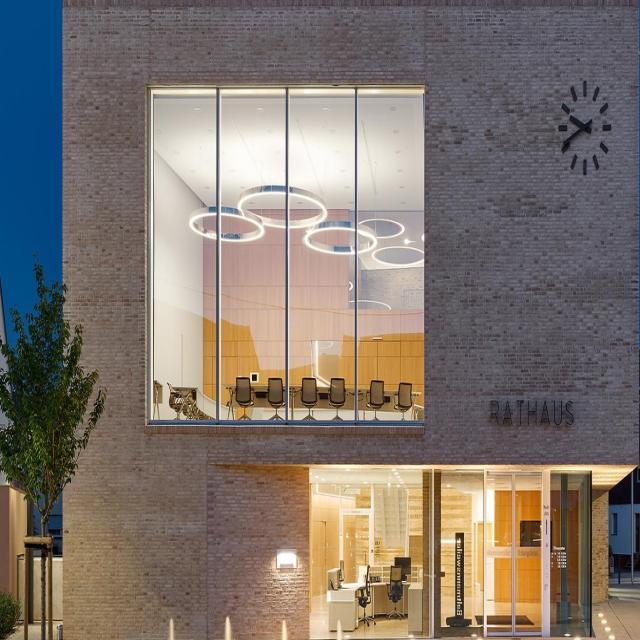door: (486, 470, 549, 637)
window: (146, 86, 426, 428), (313, 470, 484, 639), (551, 471, 593, 638)
